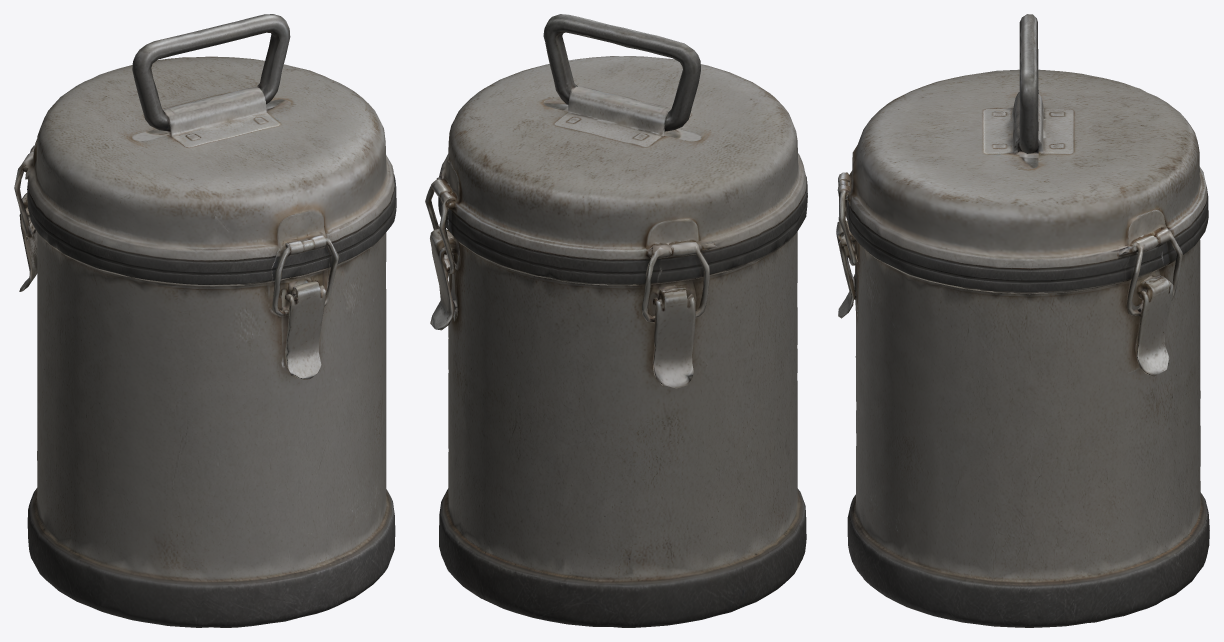
Rendered from B3_SealedSampleCarrier.fbx.
The picture shows the model from 3 angles, left to right: view 1: azimuth 30°, elevation 25°; view 2: azimuth 150°, elevation 25°; view 3: azimuth 270°, elevation 25°; orthographic projection. The views are drawn at different scales.
Visible parts, largest first — view 1: texture_mapping; view 2: texture_mapping; view 3: texture_mapping.
Part boxes in pixels (x1=…): texture_mapping: x1=14, y1=14, x2=396, y2=627; texture_mapping: x1=425, y1=14, x2=807, y2=627; texture_mapping: x1=836, y1=14, x2=1209, y2=627.
Size of the model in its own units: 27.36 by 43 by 28.3.
Materials: 1 (1 with a texture image).
